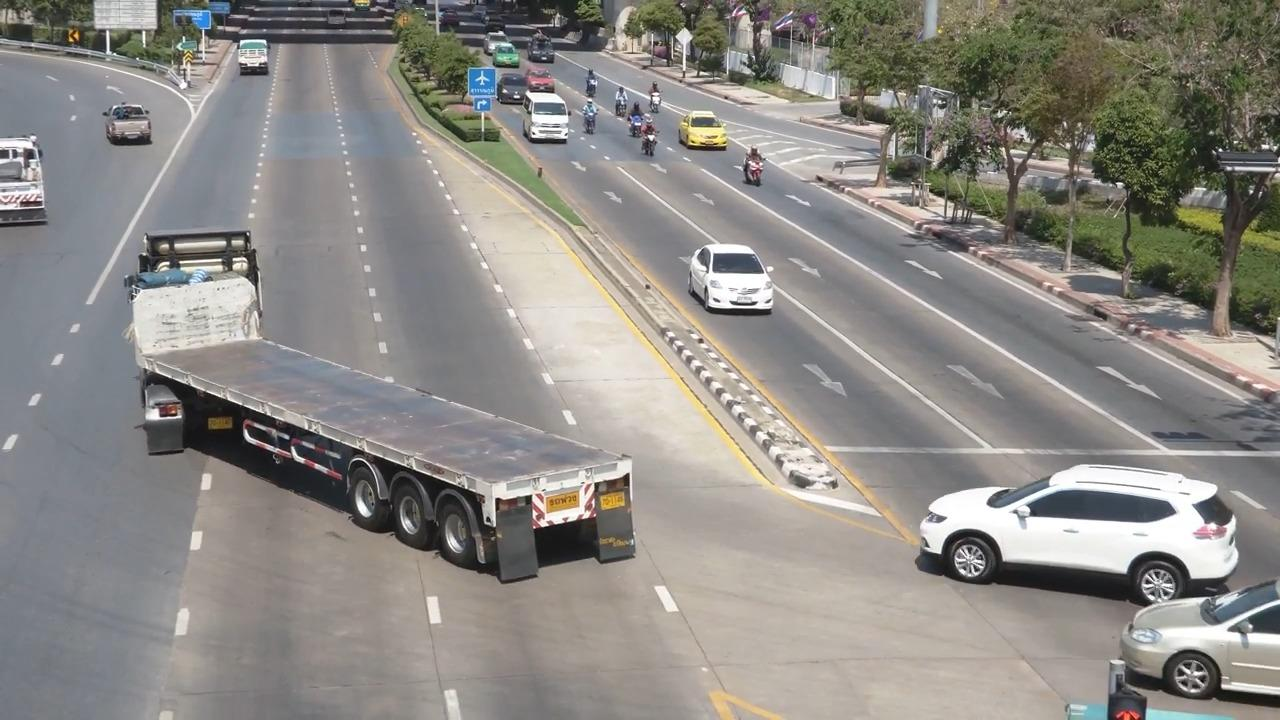CAR: (906, 422, 1241, 592), (1120, 552, 1280, 713), (686, 239, 780, 324), (0, 124, 62, 235), (100, 98, 165, 158), (229, 30, 284, 90), (524, 90, 574, 150), (680, 109, 732, 153), (315, 0, 352, 39), (526, 26, 558, 66)
HGV_BUS: (107, 213, 645, 611)
MOTOR: (610, 79, 637, 127), (739, 143, 764, 192), (637, 122, 665, 165), (646, 79, 670, 112), (580, 96, 598, 136)
